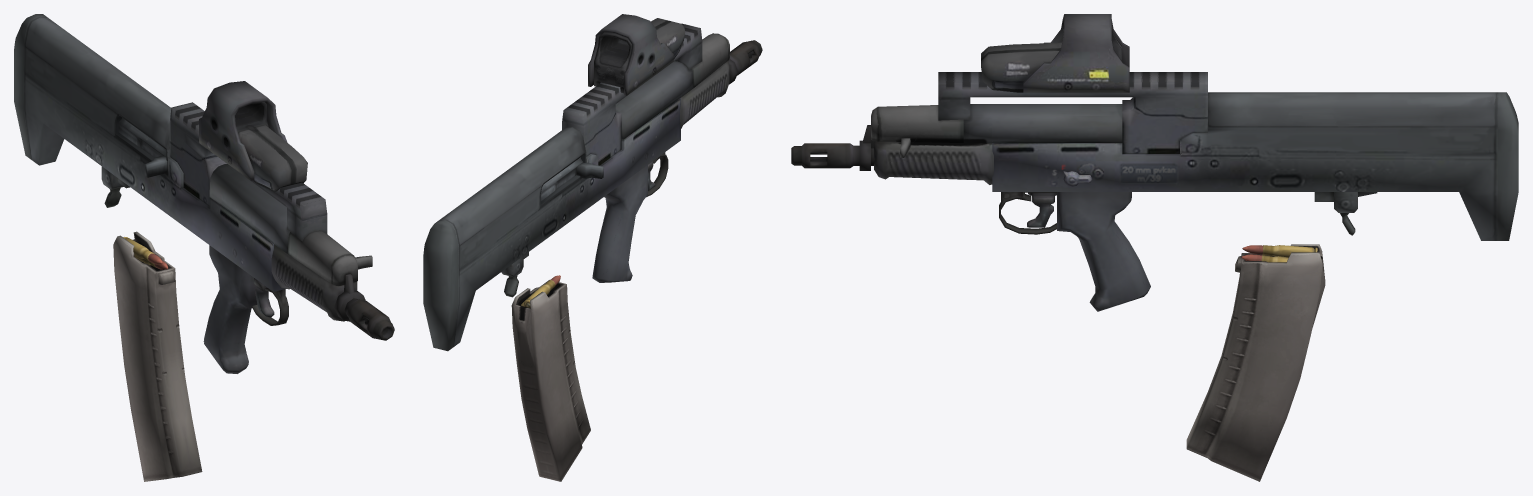
The model's file is assaultrifle3_6.fbx.
3 views of the same model, side by side, from view 1: azimuth 30°, elevation 25°; view 2: azimuth 150°, elevation 25°; view 3: azimuth 270°, elevation 25° (orthographic). The views are drawn at different scales.
Parts seen in each view (by area): view 1: gun_supersmooth; view 2: gun_supersmooth; view 3: gun_supersmooth.
Boxes of the visible parts, x1=… form: gun_supersmooth: x1=14, y1=14, x2=394, y2=481; gun_supersmooth: x1=423, y1=14, x2=762, y2=481; gun_supersmooth: x1=791, y1=14, x2=1518, y2=481.
Bounding box in the file's own units: 0.906 × 5.23 × 7.56.
